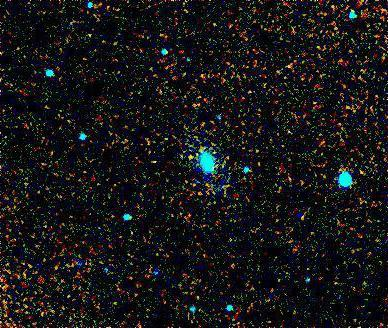star: (176, 140, 206, 170)
